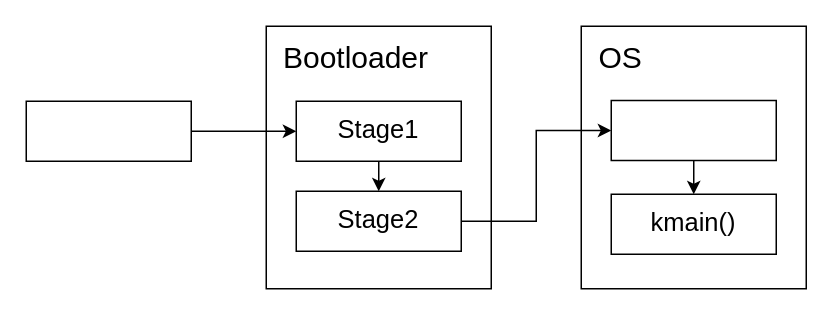
Some shapes in this 833 by 315 pixel diagram are drawn without their labels. Each missing label, with the centre of its shape:
"BIOS" belongs at [108,130].
"Bootstrap" belongs at [693,129].
